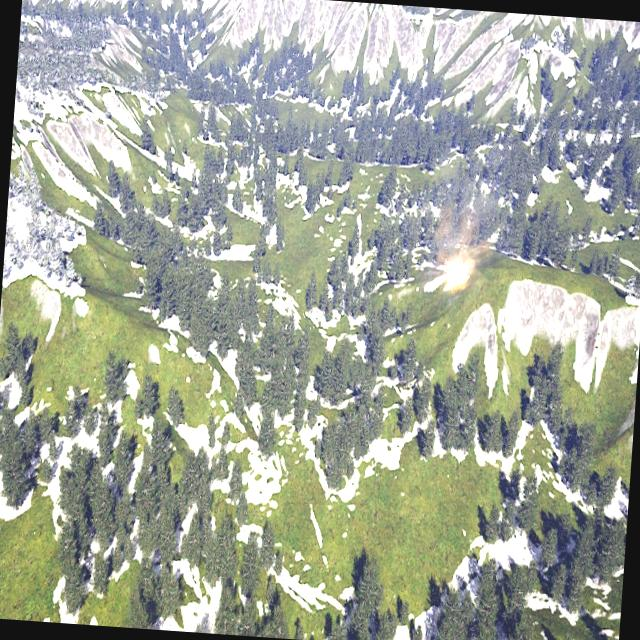fire: (446, 256, 472, 291)
smoke: (428, 176, 490, 272)
